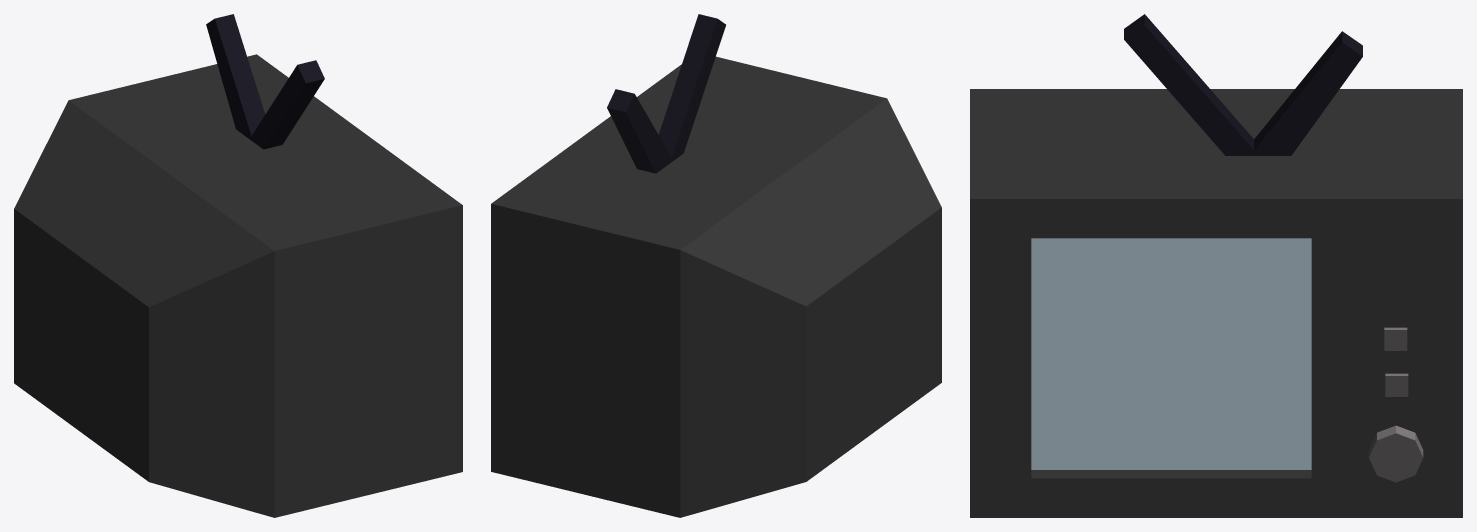
Rendered from television2.fbx.
3 renders of one model, left to right at view 1: azimuth 30°, elevation 25°; view 2: azimuth 150°, elevation 25°; view 3: azimuth 270°, elevation 25°, orthographic. The views are drawn at different scales.
Visible parts, largest first — view 1: television2; view 2: television2; view 3: television2.
Part boxes in pixels (x1=…): television2: x1=14, y1=14, x2=462, y2=517; television2: x1=491, y1=14, x2=941, y2=517; television2: x1=970, y1=14, x2=1462, y2=517.
Bounding box in the file's own units: 77.61 × 63.41 × 78.2.
